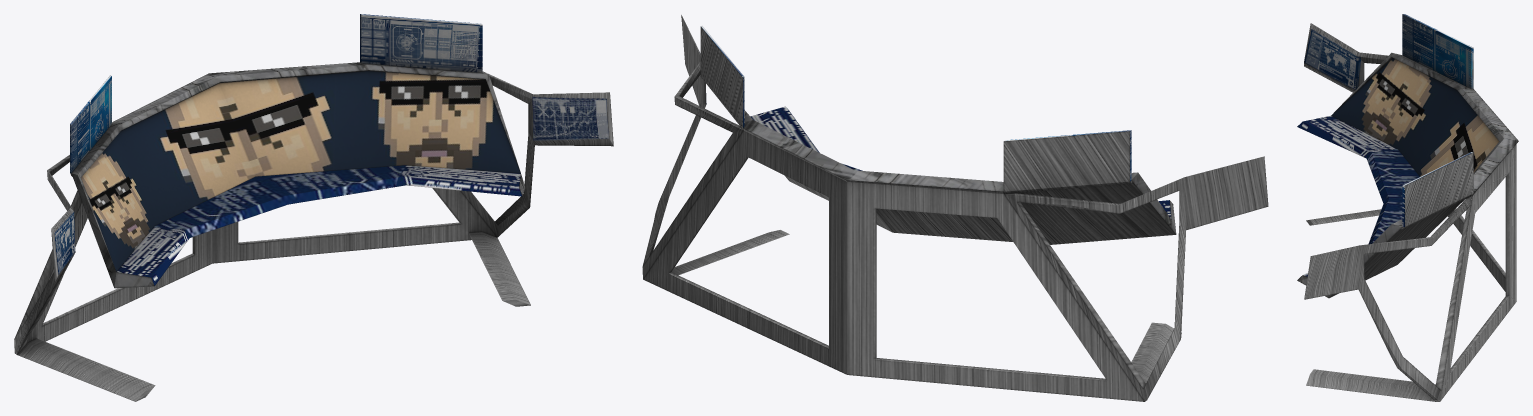
File: controlPanel.fbx
The picture shows the model from 3 angles, left to right: view 1: azimuth 30°, elevation 25°; view 2: azimuth 150°, elevation 25°; view 3: azimuth 270°, elevation 25°; orthographic projection. The views are drawn at different scales.
Parts seen in each view (by area): view 1: cpntrol_panel2; view 2: cpntrol_panel2; view 3: cpntrol_panel2.
Boxes of the visible parts, x1,y1,x2,y2 form: cpntrol_panel2: (14,14,613,401); cpntrol_panel2: (642,15,1268,401); cpntrol_panel2: (1297,14,1518,401).
Bounding box in the file's own units: 5.12 × 2.08 × 2.06.
